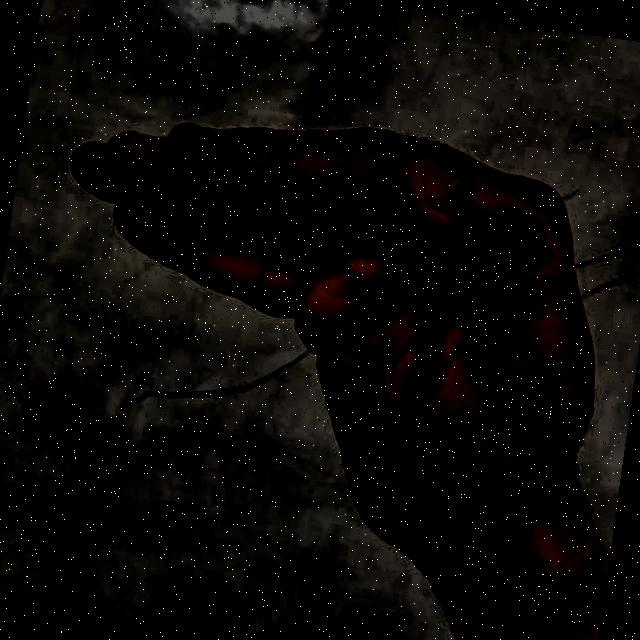Ga: (6, 19, 640, 625)
